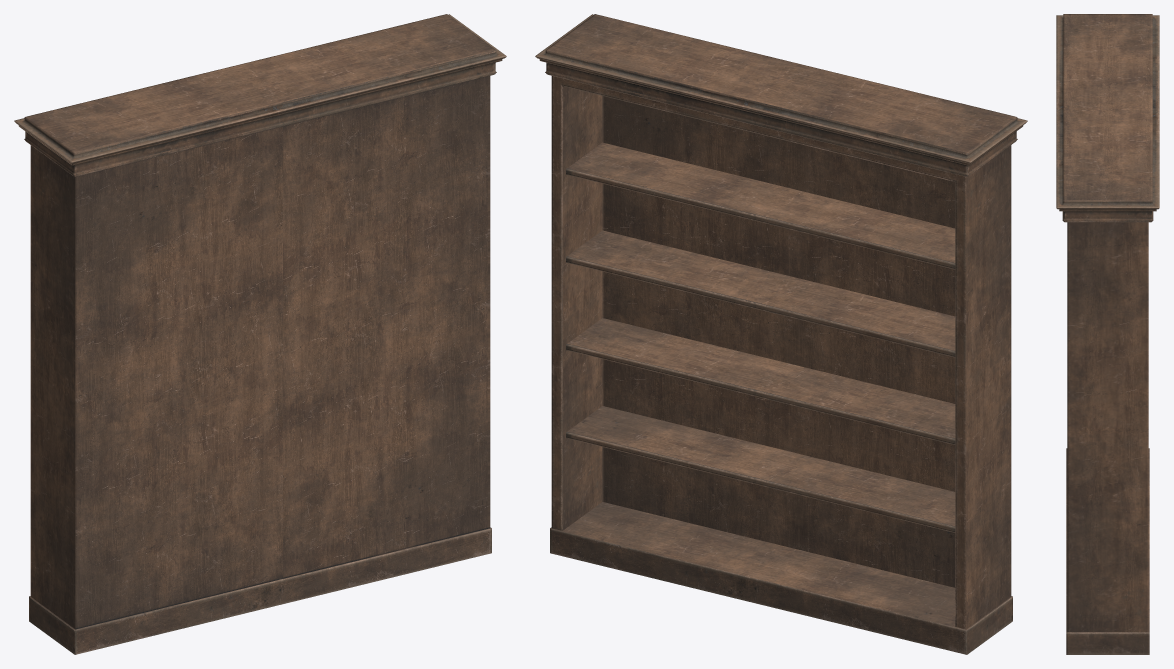
The model's file is SM_Locker01_4_LOD0.glb.
3 views of the same model, side by side, from view 1: azimuth 30°, elevation 25°; view 2: azimuth 150°, elevation 25°; view 3: azimuth 270°, elevation 25° (orthographic). The views are drawn at different scales.
Visible parts, largest first — view 1: SM_Locker01_4_LOD0; view 2: SM_Locker01_4_LOD0; view 3: SM_Locker01_4_LOD0.
Part boxes in pixels (box(x1,y1,x2,y2)): SM_Locker01_4_LOD0: box(14, 14, 506, 654); SM_Locker01_4_LOD0: box(535, 14, 1027, 654); SM_Locker01_4_LOD0: box(1056, 14, 1159, 654).
Size of the model in its own units: 2.43 by 2.69 by 0.5508.
1 material, 1 textured.
